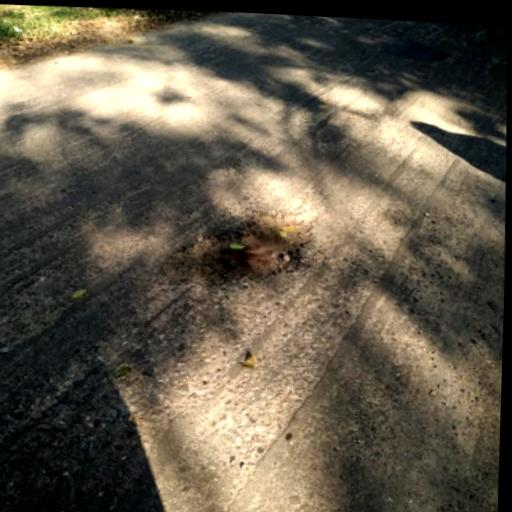pothole: (153, 202, 317, 297)
